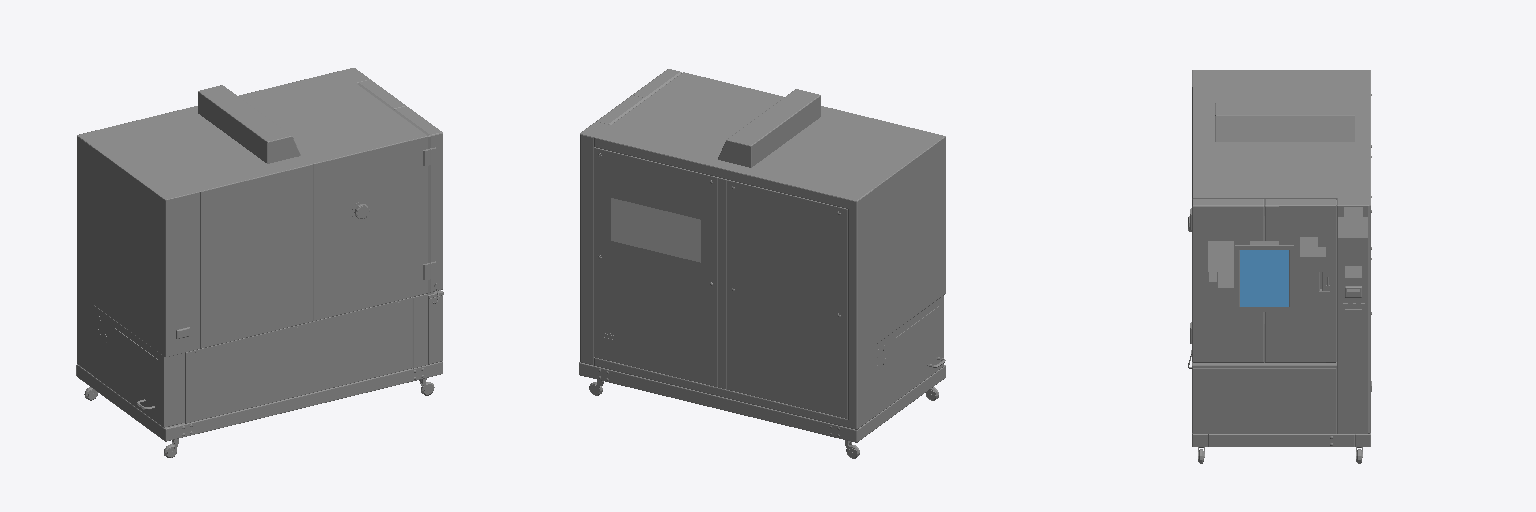
File: 05JJZWX.obj
The picture shows the model from 3 angles: view 1: azimuth 30°, elevation 25°; view 2: azimuth 150°, elevation 25°; view 3: azimuth 270°, elevation 25°; orthographic projection.
Visible parts, largest first — view 1: Metal_02, Metal_03; view 2: Metal_02, Tex; view 3: Metal_02, Glass, Tex, Metal_05, Metal_03.
Part boxes in pixels (left/top/right/bottom): Metal_02: left=76, top=68, right=442, bottom=441; Metal_03: left=137, top=147, right=443, bottom=443; Metal_02: left=579, top=69, right=945, bottom=442; Tex: left=611, top=198, right=700, bottom=262; Metal_02: left=1192, top=70, right=1371, bottom=446; Glass: left=1240, top=250, right=1288, bottom=306; Tex: left=1208, top=207, right=1367, bottom=291; Metal_05: left=1188, top=94, right=1371, bottom=445; Metal_03: left=1189, top=208, right=1367, bottom=447.
Bounding box in the file's own units: 89.92 × 84.42 × 49.46.